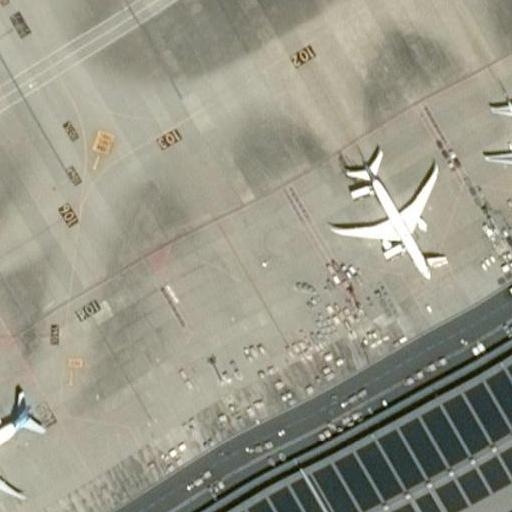Aircraft: (333, 150, 438, 277), (0, 384, 42, 503), (479, 87, 512, 198)
